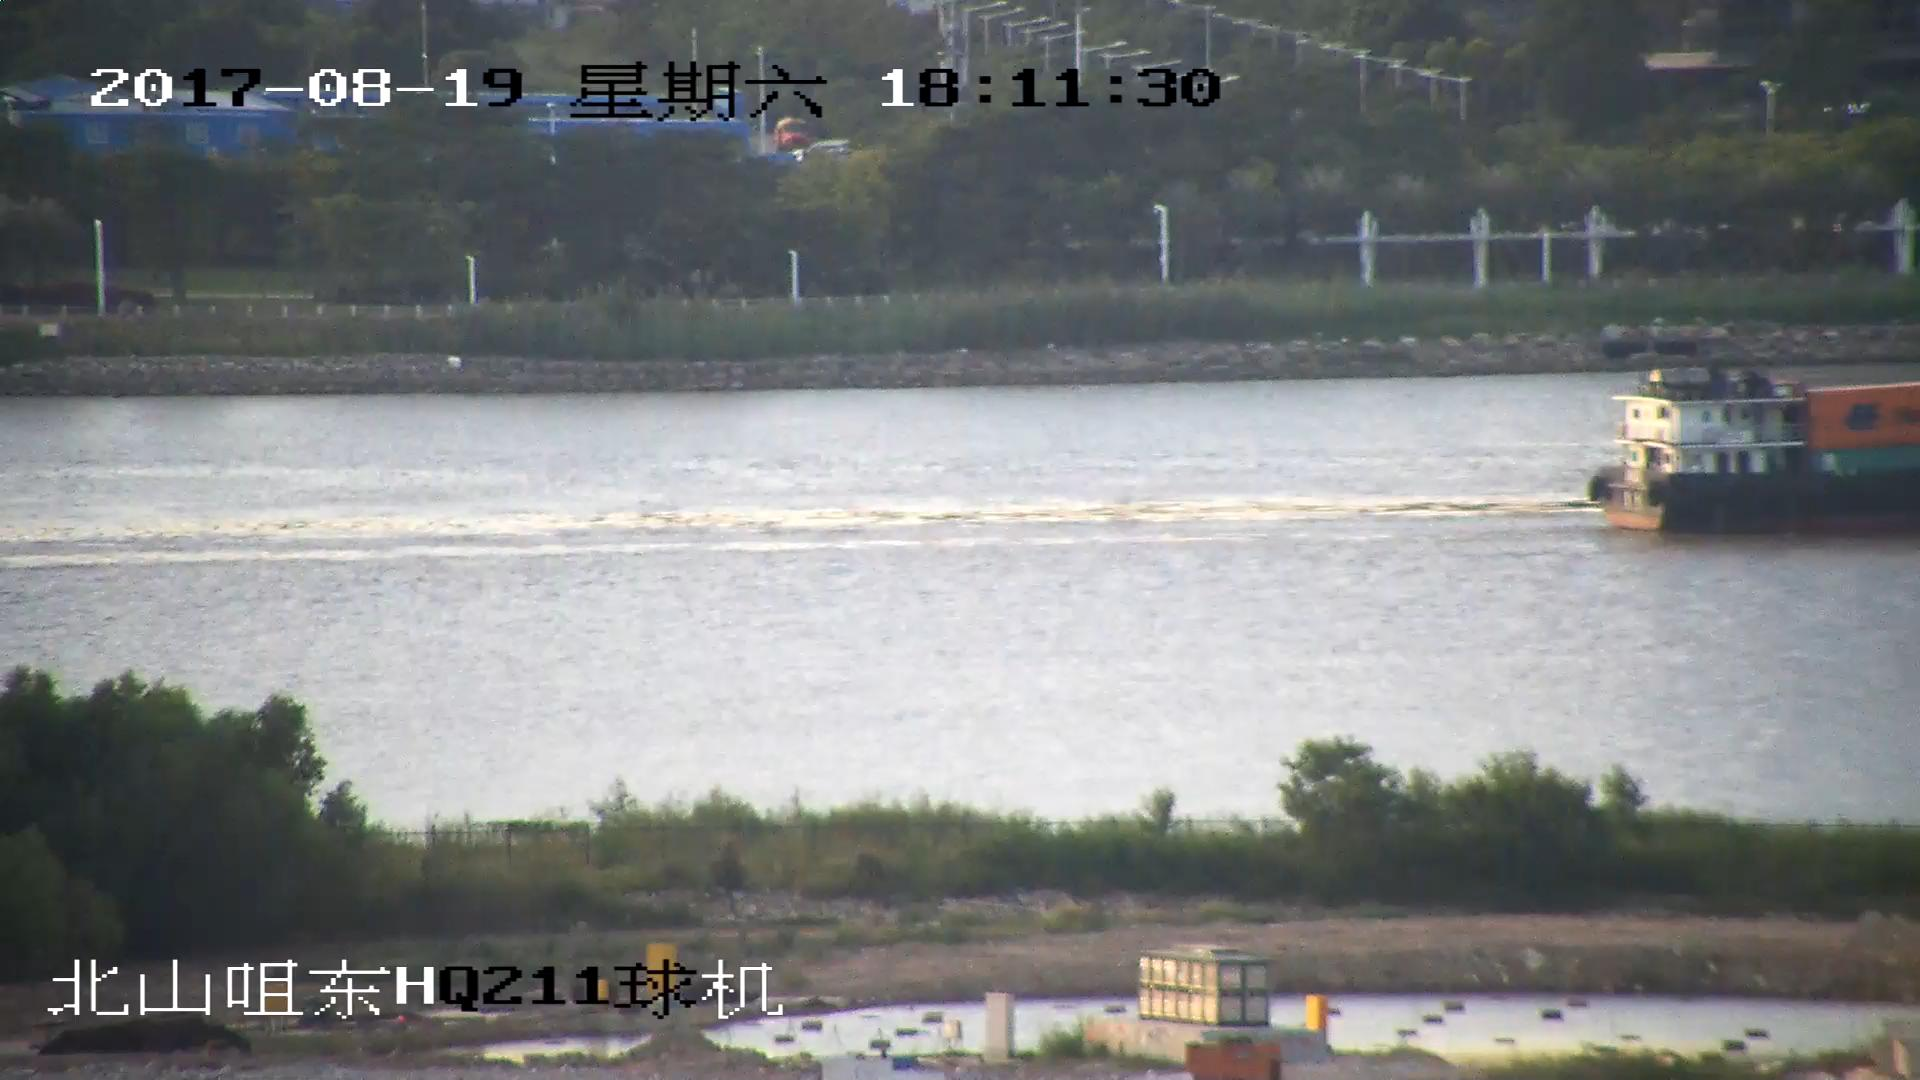container ship: (1586, 373, 1920, 532)
